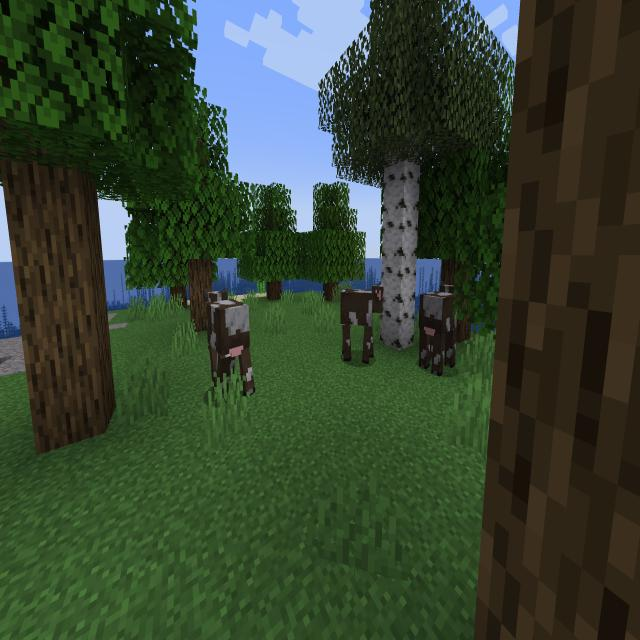cow: (200, 281, 266, 416), (411, 270, 465, 381), (332, 276, 390, 378)
